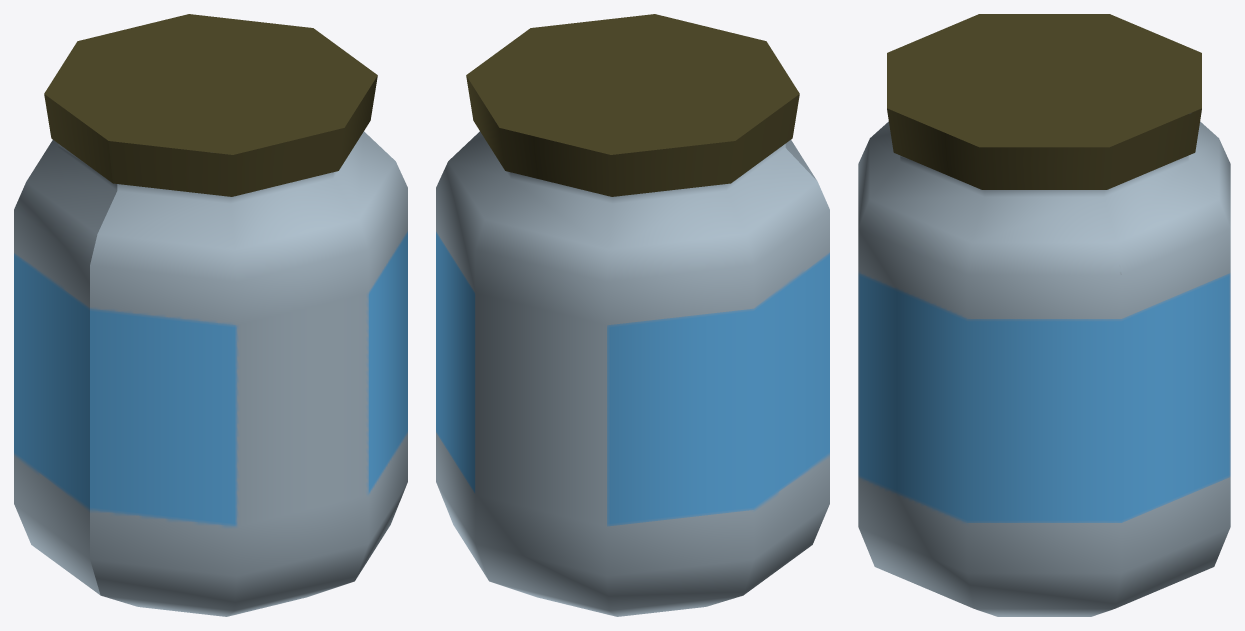
The model's file is TearJar.fbx.
The picture shows the model from 3 angles, left to right: view 1: azimuth 30°, elevation 25°; view 2: azimuth 150°, elevation 25°; view 3: azimuth 270°, elevation 25°; orthographic projection.
Parts seen in each view (by area): view 1: TearJar; view 2: TearJar; view 3: TearJar.
Part boxes in pixels (x1=…): TearJar: x1=14, y1=14, x2=407, y2=616; TearJar: x1=436, y1=14, x2=829, y2=616; TearJar: x1=858, y1=14, x2=1230, y2=616.
Bounding box in the file's own units: 231 × 335 × 231.
